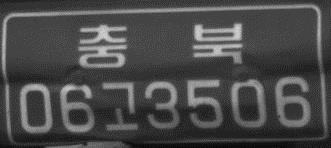0: (229, 77, 268, 131), (18, 79, 54, 135)
3: (143, 79, 180, 131)
5: (184, 76, 223, 131)
6: (272, 74, 311, 128), (58, 79, 96, 134)
고: (99, 78, 142, 133)
충북_D: (75, 20, 245, 71)
